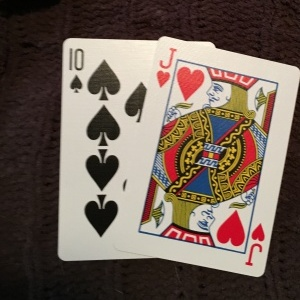card: (61, 35, 149, 265)
